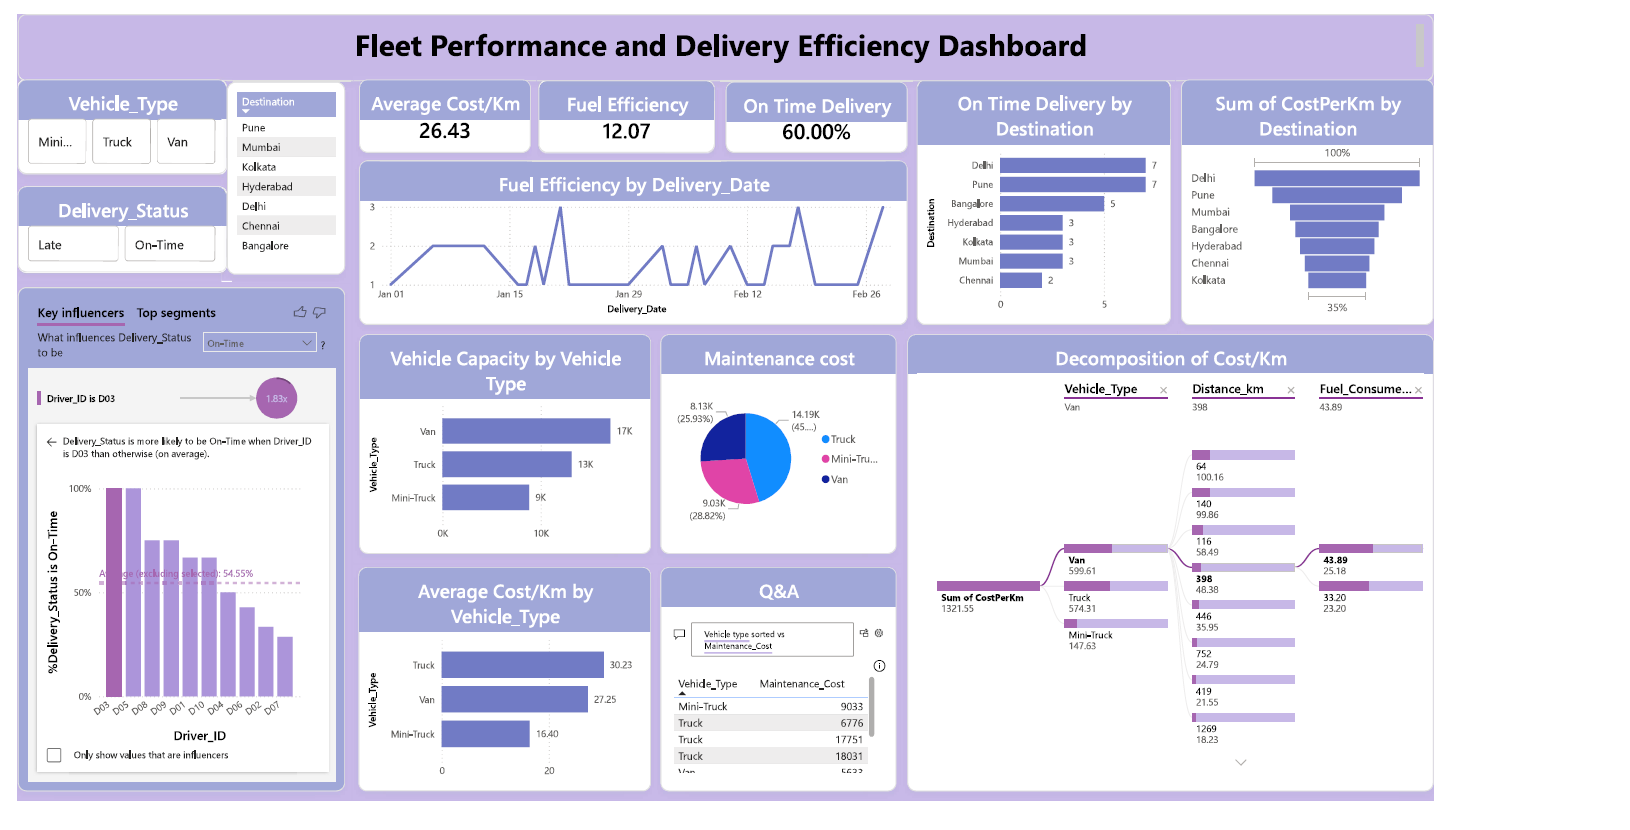

The dashboard page shown, as its layout file describes it:
{"tool":"powerbi","page":{"name":"Page 1","canvas":[1800,1000],"ordinal":0},"visuals":[{"type":"barChart","title":"On Time Delivery by Destination","fields":{"Y":["Trip_Data.OnTimeDelivery%"],"Category":["Trip_Data.Destination"]},"box":[1143.1,82.8,322.4,312.1],"z":0},{"type":"lineChart","title":"Fuel Efficiency by Delivery_Date","fields":{"Category":["Trip_Data.Delivery_Date.Variation.Date Hierarchy.Day"],"Y":["CountNonNull(Trip_Data.Fuel Efficiency)"]},"box":[434.5,186.2,696.6,208.6],"z":1000},{"type":"card","title":"Fuel Efficiency","fields":{"Values":["Avg(Trip_Data.Fuel Efficiency)"]},"box":[662.1,84.5,224.1,91.4],"z":2000},{"type":"pieChart","title":"Maintenance Cost by Vehicle Type","fields":{"Category":["Vehicle_Master.Vehicle_Type"],"Y":["Avg(Vehicle_Master.Maintenance_Cost)"]},"box":[1378.6,473.2,257.1,241.1],"z":3000},{"type":"textbox","box":[0,0,1800,85.4],"z":4000},{"type":"clusteredBarChart","title":"Vehicle Capacity by Vehicle Type","fields":{"Category":["Vehicle_Master.Vehicle_Type"],"Y":["Sum(Vehicle_Master.Capacity_kg)"]},"box":[434.5,406.9,370.7,279.3],"z":5000},{"type":"clusteredBarChart","title":"Average Cost/Km by Vehicle_Type","fields":{"Category":["Vehicle_Master.Vehicle_Type"],"Y":["Avg(Trip_Data.CostPerKm)"]},"box":[432.8,703.4,372.4,284.5],"z":6000},{"type":"card","title":"On Time Delivery","fields":{"Values":["Trip_Data.OnTime Delivery"]},"box":[900,86.2,231,89.7],"z":7000},{"type":"card","title":"Average Cost/Km","fields":{"Values":["Trip_Data.Average_CostPerKM"]},"box":[434.5,82.8,217.2,93.1],"z":8000},{"type":"decompositionTreeVisual","title":"Decomposition of Cost/Km","fields":{"Analyze":["Sum(Trip_Data.CostPerKm)"],"ExplainBy":["Vehicle_Master.Vehicle_Type","Trip_Data.Distance_km","Trip_Data.Fuel_Consumed_L","Vehicle_Master.Maintenance_Cost"]},"box":[1131,406.9,669,581],"z":9000},{"type":"funnel","fields":{"Category":["Trip_Data.Destination"],"Y":["Sum(Trip_Data.CostPerKm)"]},"box":[1479.3,82.8,320.7,312.1],"z":10000},{"type":"advancedSlicerVisual","fields":{"Values":["Vehicle_Master.Vehicle_Type"]},"box":[0,82.8,265.5,120.7],"z":11000},{"type":"advancedSlicerVisual","fields":{"Values":["Trip_Data.Delivery_Status"]},"box":[0,219,265.5,108.6],"z":12000},{"type":"tableEx","title":"Destination","fields":{"Values":["Trip_Data.Destination"]},"box":[265.5,86.2,150,244.8],"z":13000},{"type":"keyDriversVisual","fields":{"Target":["Trip_Data.Delivery_Status"],"ExplainBy":["Vehicle_Master.Vehicle_Type","Trip_Data.Driver_ID","Trip_Data.Distance_km"]},"box":[0,346.6,415.5,641.4],"z":13001},{"type":"pieChart","title":"Maintenance cost ","fields":{"Category":["Vehicle_Master.Vehicle_Type"],"Y":["Avg(Vehicle_Master.Maintenance_Cost)"]},"box":[817.2,406.9,300,279.3],"z":13002},{"type":"qnaVisual","title":"Q&A","box":[817.2,703.4,300,284.5],"z":13003}]}

Visuals, with their boxes in screenshot pixels (x1, y1, x2, y2):
"On Time Delivery by Destination" barChart: (917, 116, 1173, 363)
"Fuel Efficiency by Delivery_Date" lineChart: (357, 198, 908, 363)
"Fuel Efficiency" card: (537, 118, 714, 190)
"Maintenance Cost by Vehicle Type" pieChart: (1104, 425, 1307, 616)
textbox: (13, 51, 1437, 119)
"Vehicle Capacity by Vehicle Type" clusteredBarChart: (357, 373, 650, 594)
"Average Cost/Km by Vehicle_Type" clusteredBarChart: (355, 608, 650, 829)
"On Time Delivery" card: (725, 119, 908, 190)
"Average Cost/Km" card: (357, 116, 528, 190)
"Decomposition of Cost/Km" decompositionTreeVisual: (908, 373, 1437, 829)
funnel - Trip_Data.Destination x Sum(Trip_Data.CostPerKm): (1183, 116, 1437, 363)
advancedSlicerVisual - Vehicle_Master.Vehicle_Type: (13, 116, 223, 212)
advancedSlicerVisual - Trip_Data.Delivery_Status: (13, 224, 223, 310)
"Destination" tableEx: (223, 119, 342, 313)
keyDriversVisual - Trip_Data.Delivery_Status x Vehicle_Master.Vehicle_Type: (13, 325, 342, 829)
"Maintenance cost " pieChart: (659, 373, 897, 594)
"Q&A" qnaVisual: (659, 608, 897, 829)
